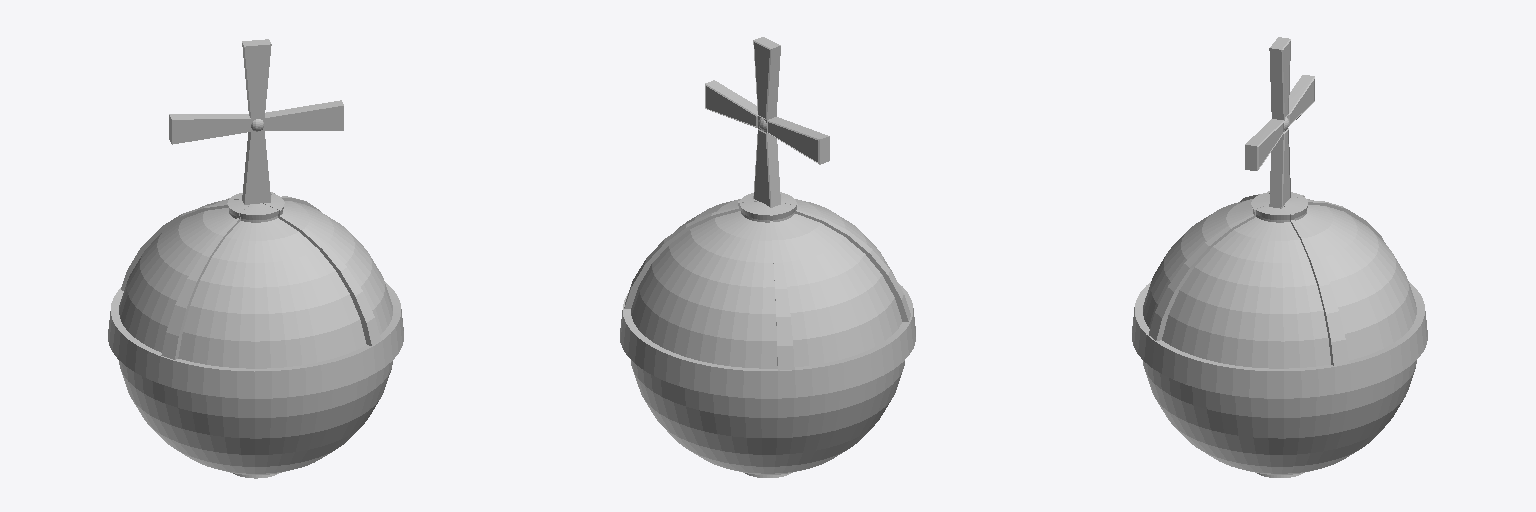
The picture shows the model from 3 angles: view 1: azimuth 30°, elevation 25°; view 2: azimuth 150°, elevation 25°; view 3: azimuth 270°, elevation 25°; orthographic projection.
Visible parts, largest first — view 1: Сфера, Куб.001_Куб.004; view 2: Сфера, Куб.001_Куб.004; view 3: Сфера, Куб.001_Куб.004.
Boxes of the visible parts, box(x1,y1,x2,y2) form: Сфера: box(108, 192, 403, 478); Куб.001_Куб.004: box(169, 39, 343, 204); Сфера: box(620, 192, 915, 477); Куб.001_Куб.004: box(705, 37, 829, 207); Сфера: box(1132, 191, 1427, 477); Куб.001_Куб.004: box(1245, 37, 1314, 208).
Bounding box in the file's own units: 2.12 × 3.36 × 2.12.